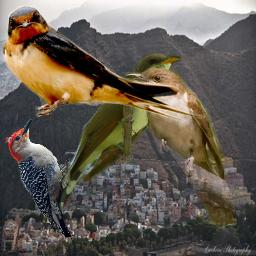Cuckoo: (43, 53, 181, 223), (123, 64, 237, 228)
Swallow: (0, 5, 202, 129)
Woodpecker: (5, 118, 71, 237)
